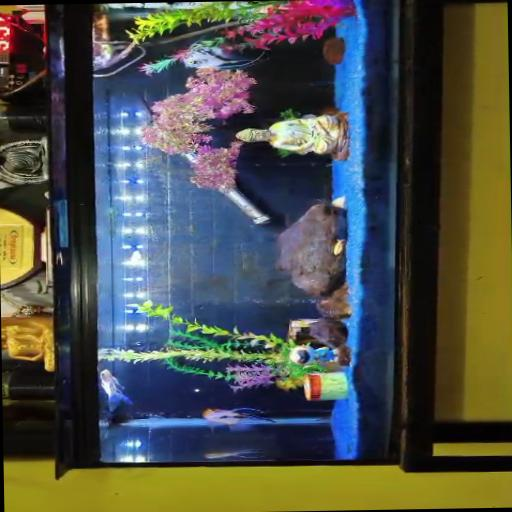Fish: (184, 46, 264, 69), (203, 407, 276, 426), (100, 369, 133, 410), (204, 449, 260, 458), (333, 238, 345, 254)
